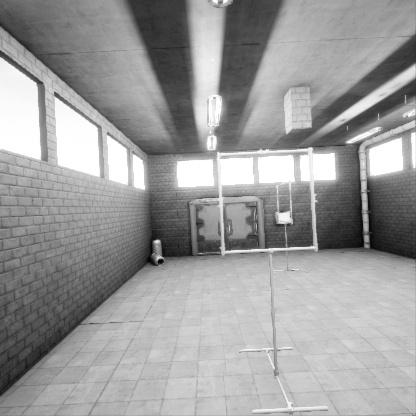gate: (219, 167, 320, 268), (276, 194, 292, 236)
